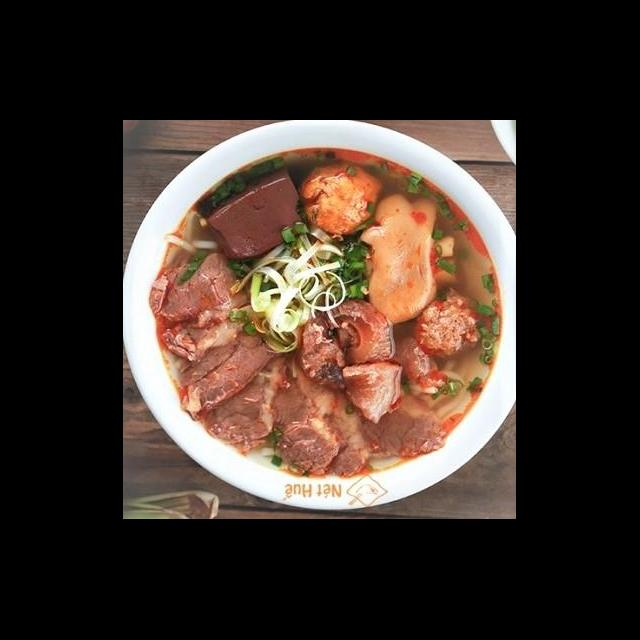bun: (408, 352, 481, 422), (160, 210, 220, 262)
bun bo: (154, 153, 501, 480)
thit bo: (170, 310, 280, 424), (194, 340, 290, 458), (270, 342, 346, 482), (146, 248, 260, 332), (344, 392, 451, 464), (156, 296, 268, 364), (314, 374, 379, 484)
